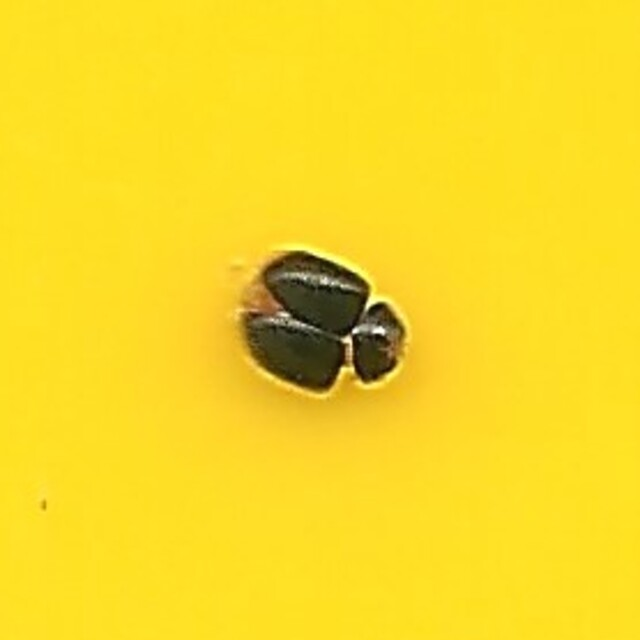Coleoptera: (230, 243, 410, 397)
